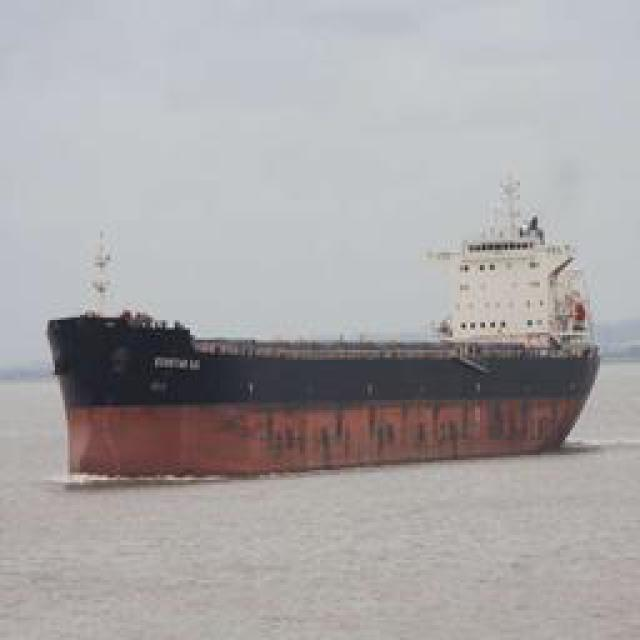Ship: (65, 173, 588, 468)
